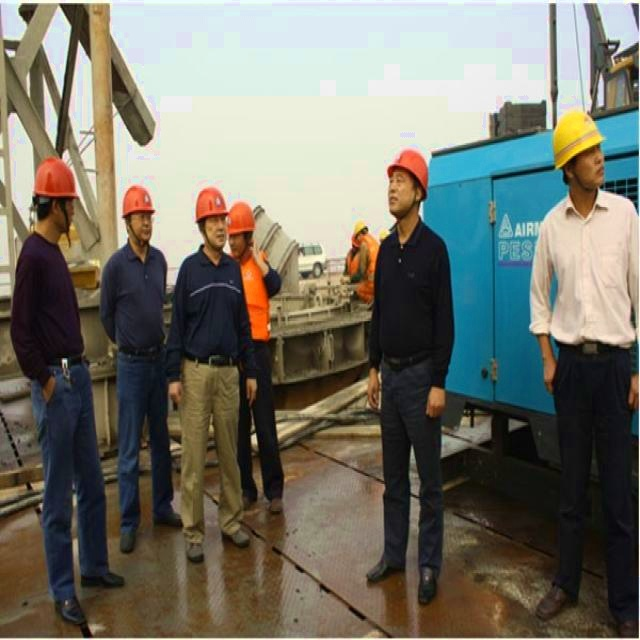Con_Casco: (553, 112, 607, 187), (384, 146, 430, 216)
Sin_Chaleco: (529, 192, 640, 348), (374, 220, 450, 376)
